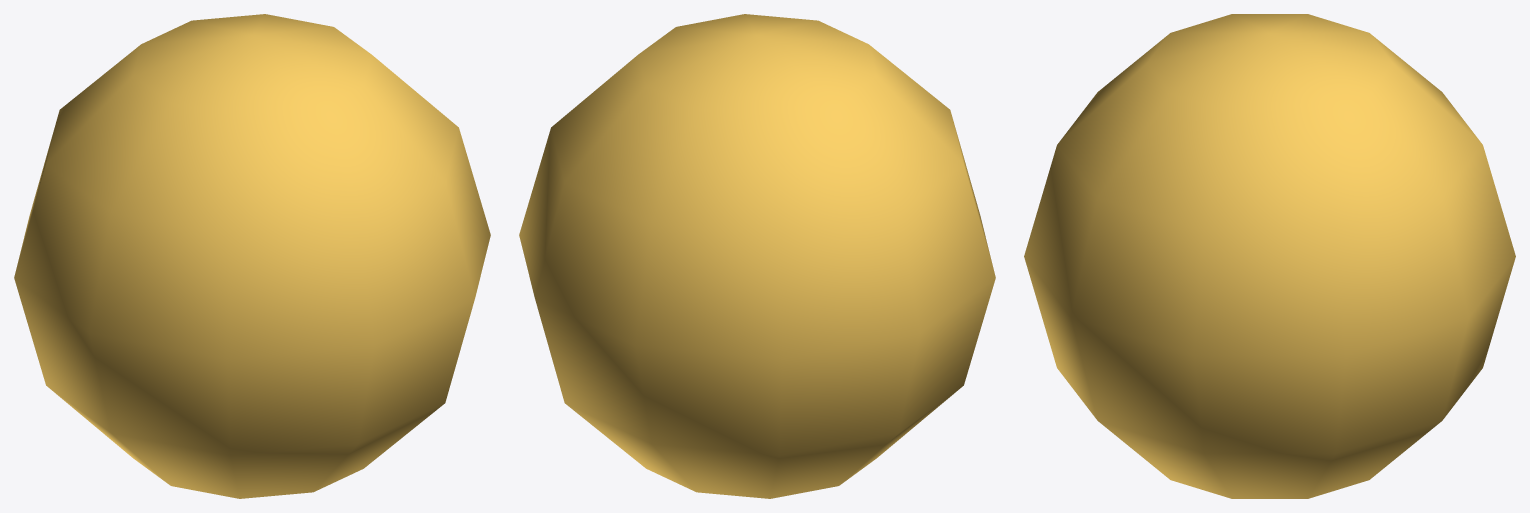
Rendered from projectile.glb.
3 views of the same model, side by side, from view 1: azimuth 30°, elevation 25°; view 2: azimuth 150°, elevation 25°; view 3: azimuth 270°, elevation 25° (orthographic).
Visible parts, largest first — view 1: projectile; view 2: projectile; view 3: projectile.
Boxes of the visible parts, box(x1,y1,x2,y2) form: projectile: box(14, 14, 490, 498); projectile: box(519, 14, 995, 498); projectile: box(1024, 14, 1515, 498).
Size of the model in its own units: 1.9 by 2 by 2.
